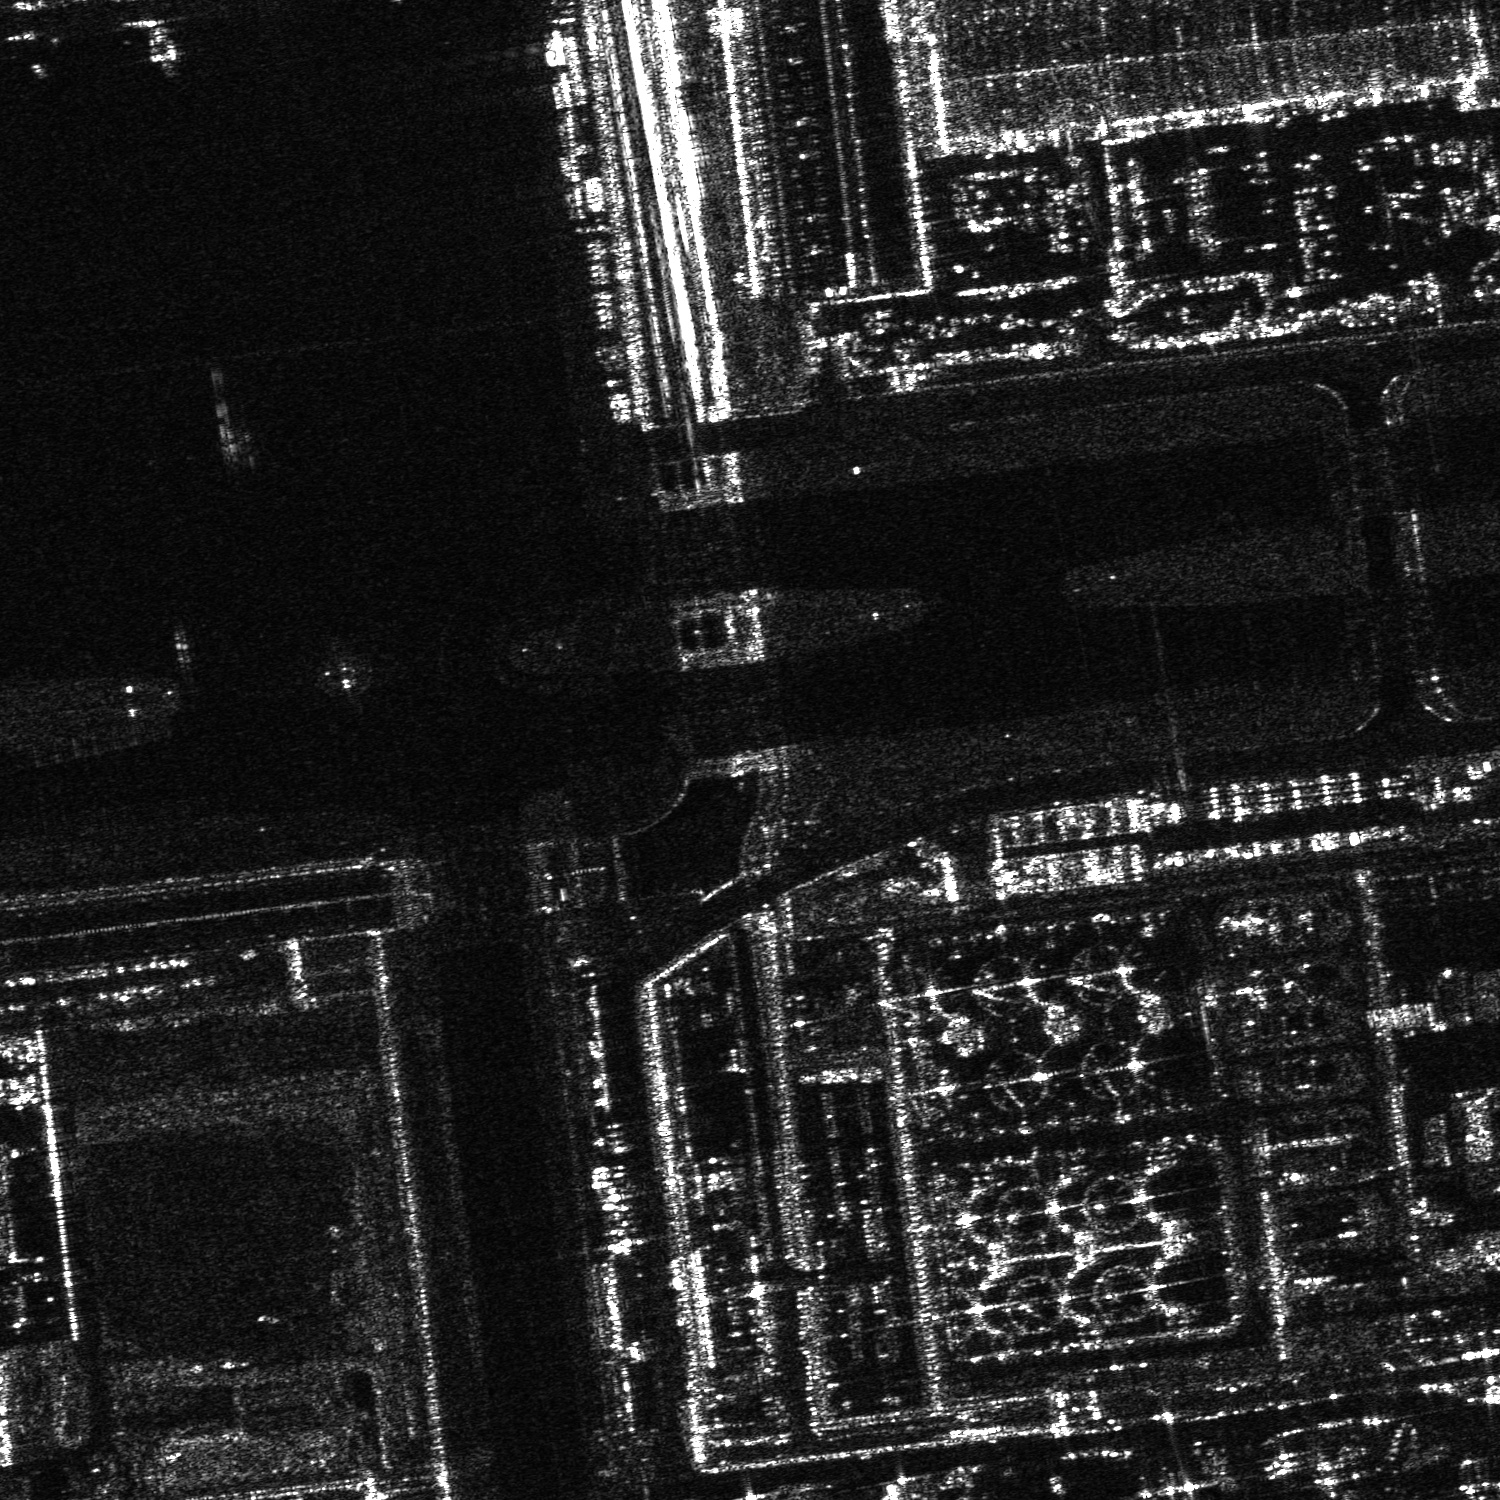A330: (317, 641, 370, 690)
